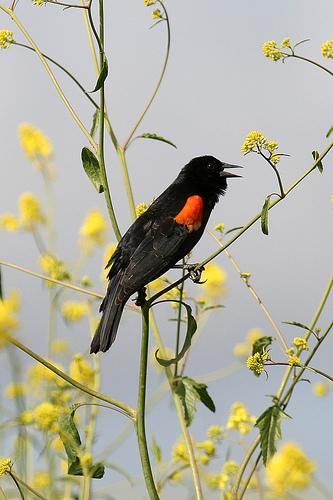010.Red_winged_Blackbird: (91, 154, 245, 356)
